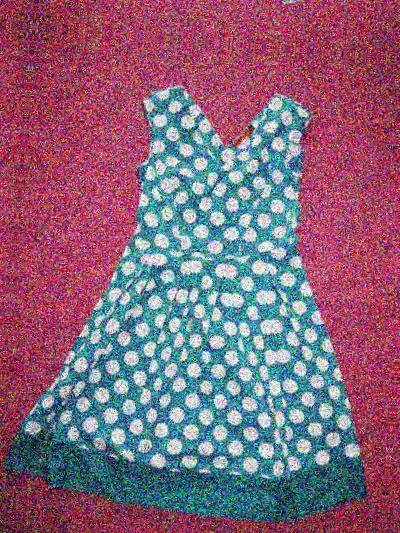Dress: (5, 48, 400, 533), (50, 0, 400, 39), (0, 13, 17, 518), (388, 82, 400, 533), (0, 0, 63, 4)
